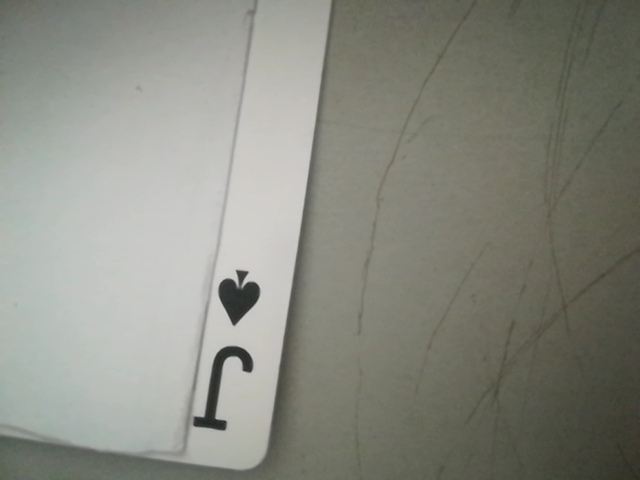ht j: (187, 259, 283, 447)
